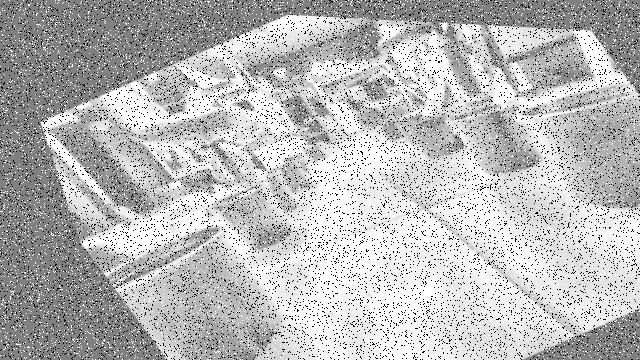pot: (102, 223, 279, 360), (514, 81, 640, 206), (445, 97, 541, 172), (207, 177, 291, 249), (398, 112, 463, 158), (243, 168, 297, 212), (266, 158, 309, 192), (392, 111, 420, 144), (375, 118, 402, 140), (281, 152, 307, 170), (302, 143, 324, 160)
